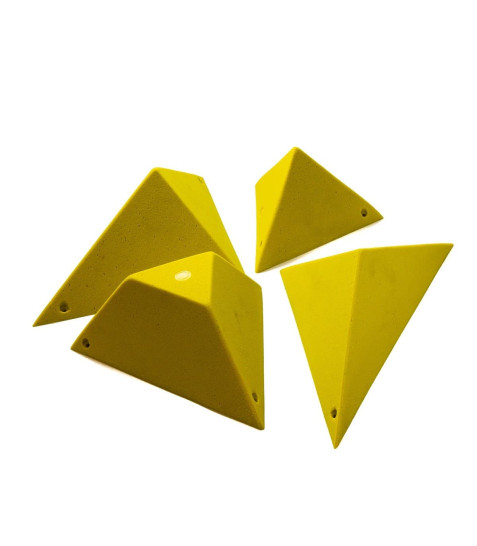volume: (281, 244, 450, 445), (71, 253, 264, 429), (33, 169, 242, 325), (253, 146, 380, 272)
